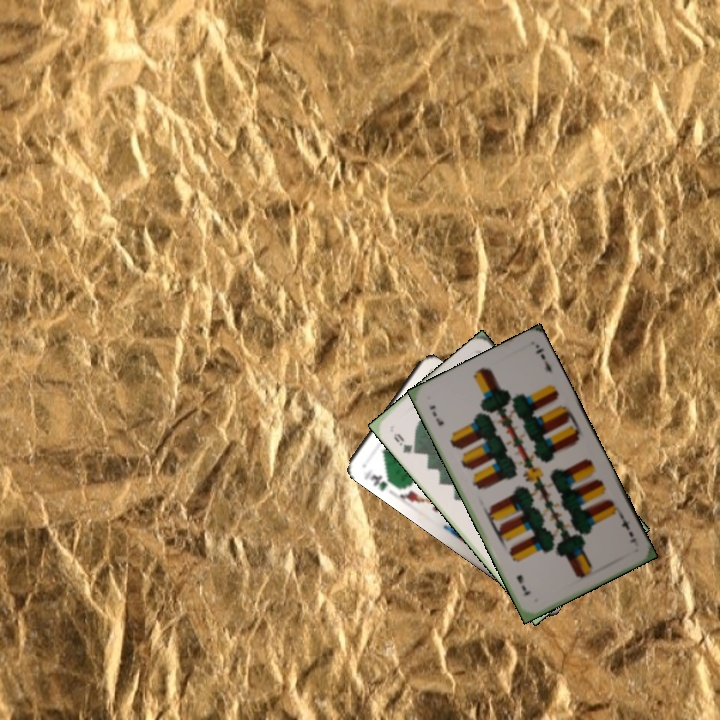E7: (616, 511, 639, 546), (425, 401, 447, 429)
G9: (389, 429, 420, 457)
GK: (360, 464, 397, 493)
